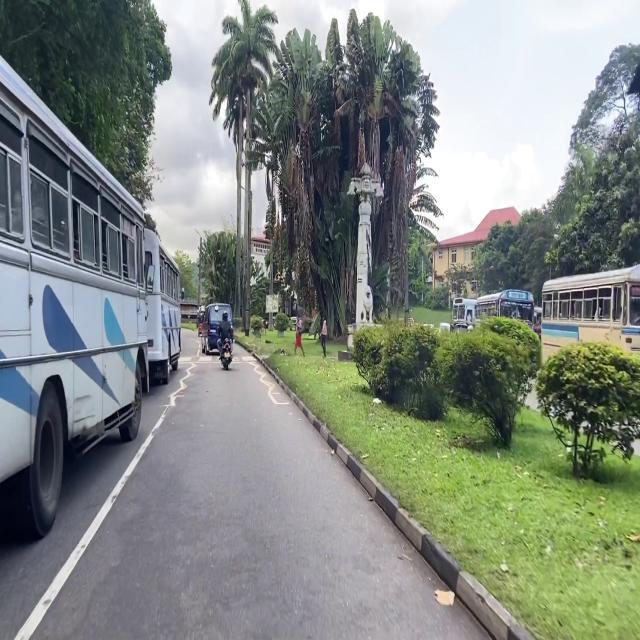bus: (0, 56, 177, 537), (541, 265, 640, 362), (144, 228, 181, 384), (476, 289, 534, 329), (452, 297, 476, 327)
motorcycle: (221, 339, 231, 369)
person: (217, 312, 232, 351), (294, 316, 305, 356), (320, 318, 327, 357)
three wheeler: (198, 312, 203, 337)
van: (202, 303, 234, 354)
